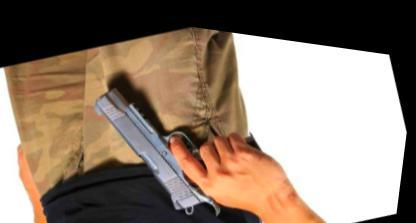pistol: (80, 40, 292, 221)
